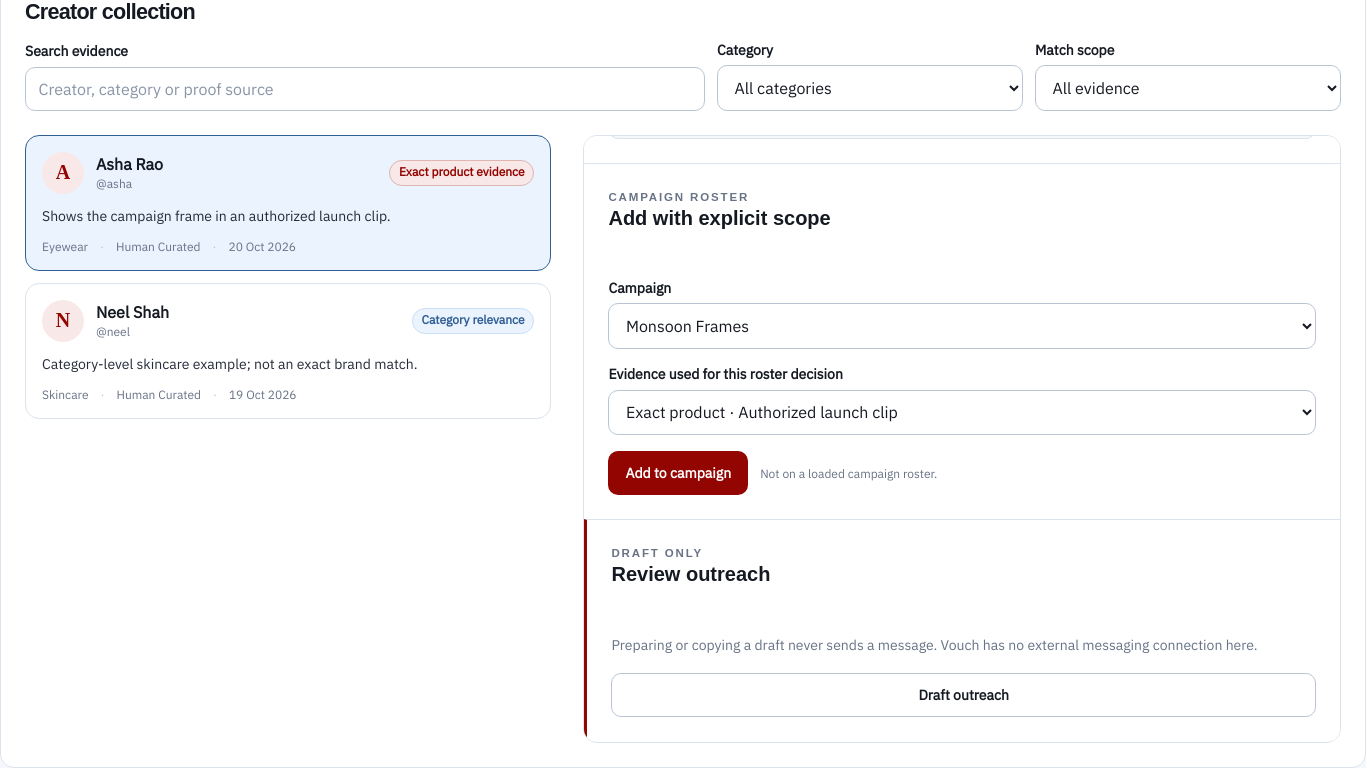
FindWorkspace › adds a creator to the selected roster and keeps outreach draft-only
(page scrolled)
Click the button "Add to campaign" at (678, 473), box x1=608 y1=451 x2=748 y2=495
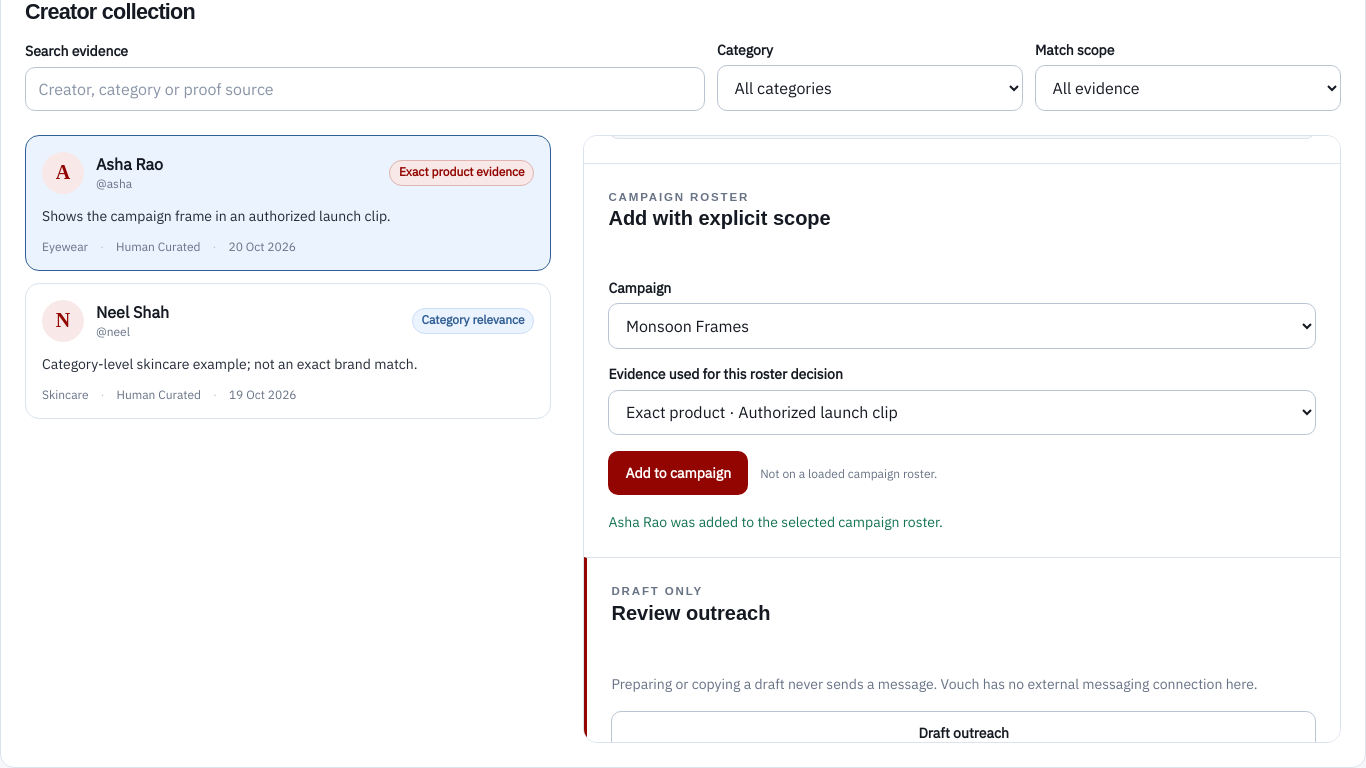
Result: the text "Asha Rao was added to the selected campaign roster." is shown at x1=608 y1=513 x2=943 y2=531
Click the button "Draft outreach" at (964, 733), box x1=611 y1=711 x2=1316 y2=755
(page scrolled)
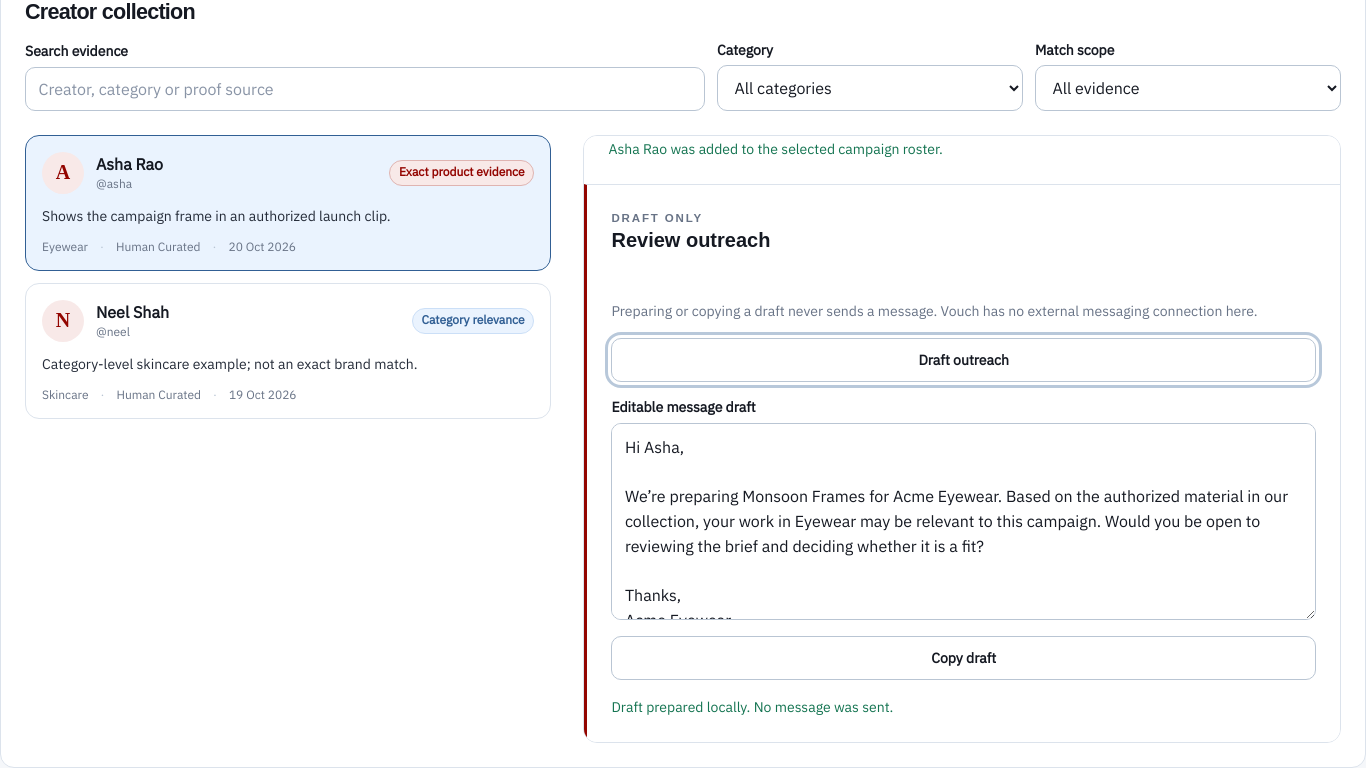
Result: the text "Draft prepared locally. No message was sent." is shown at x1=611 y1=698 x2=893 y2=716
